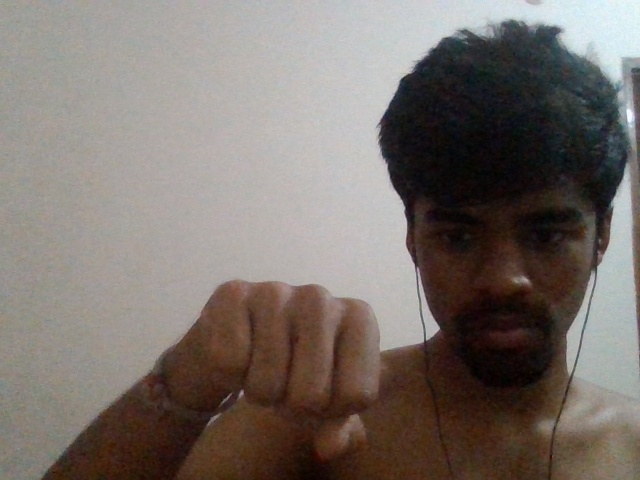Yes: (184, 273, 392, 480)
